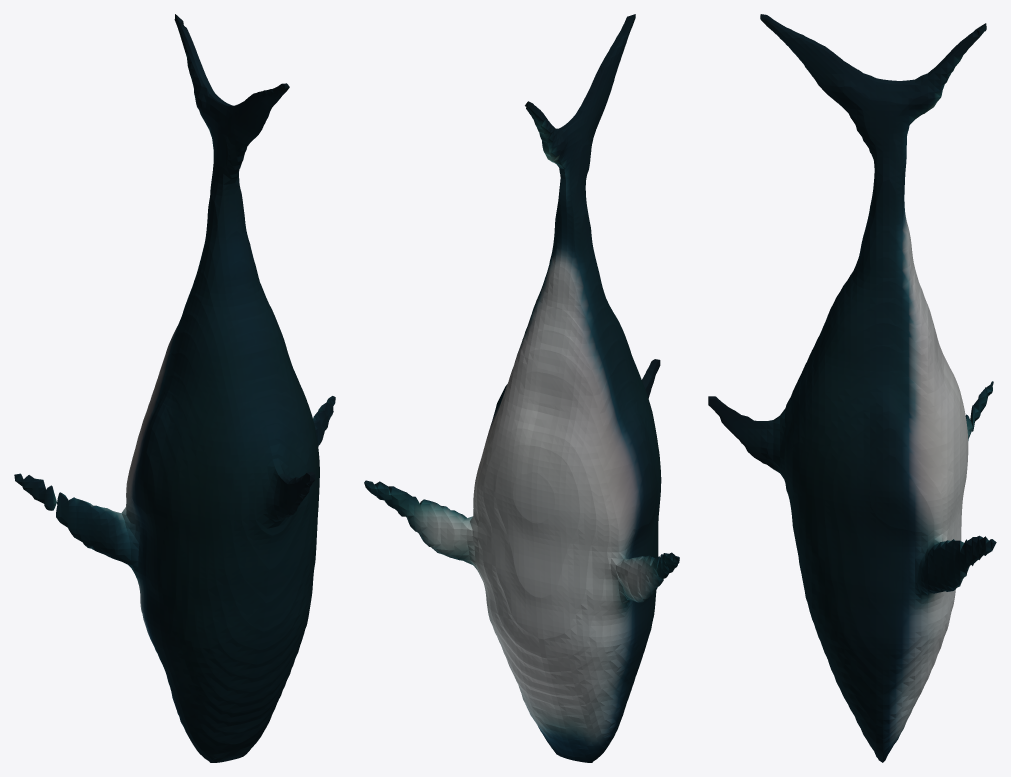
3 views of the same model, side by side, from view 1: azimuth 30°, elevation 25°; view 2: azimuth 150°, elevation 25°; view 3: azimuth 270°, elevation 25° (orthographic). The views are drawn at different scales.
Size of the model in its own units: 0.9197 by 1.97 by 0.6948.
